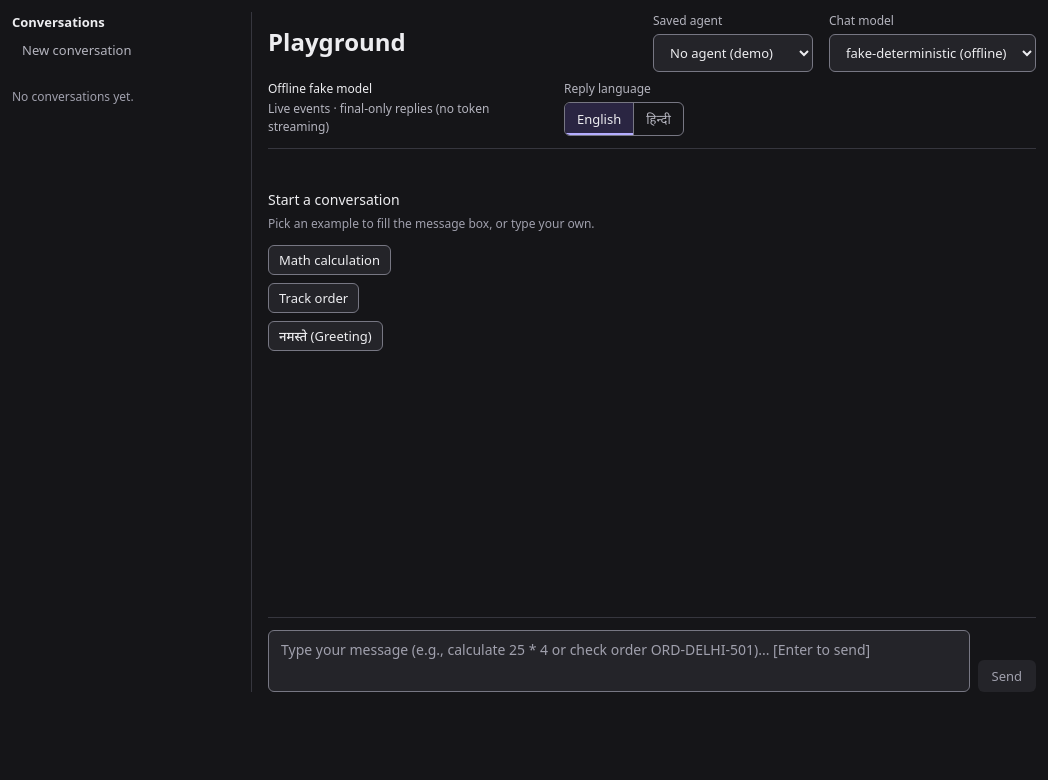
Playground › labels the offline fake model once, offers three examples and keeps one primary action
Expected: the heading "Playground" is shown, [268,26,406,58]
Expected: the element with test id "model-badge" reads "Offline fake model", [268,80,372,97]
Click the button with test id "quick-prompt-hi-greet" at (325, 336), box [268,321,383,351]
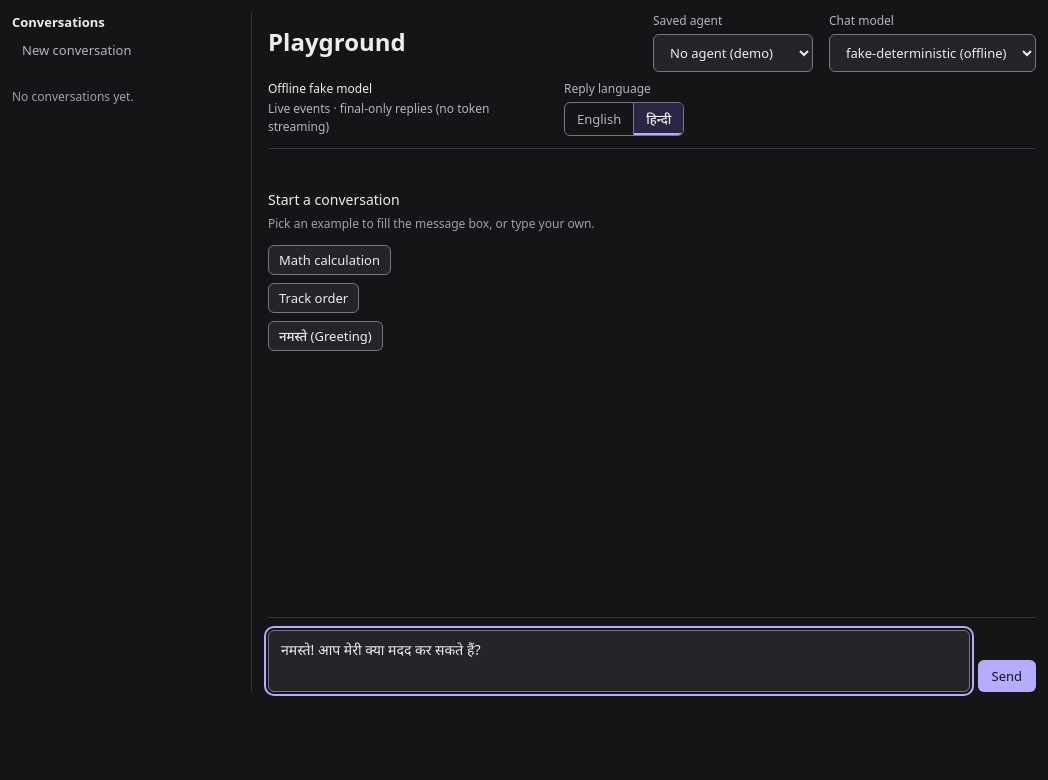
Expected: the number of buttons with class "studio-button--primary" is 1, [978,660,1036,692]
Now the text box named "Message" holds "नमस्ते! आप मेरी क्या मदद कर सकते हैं?", box [268,630,970,692]
